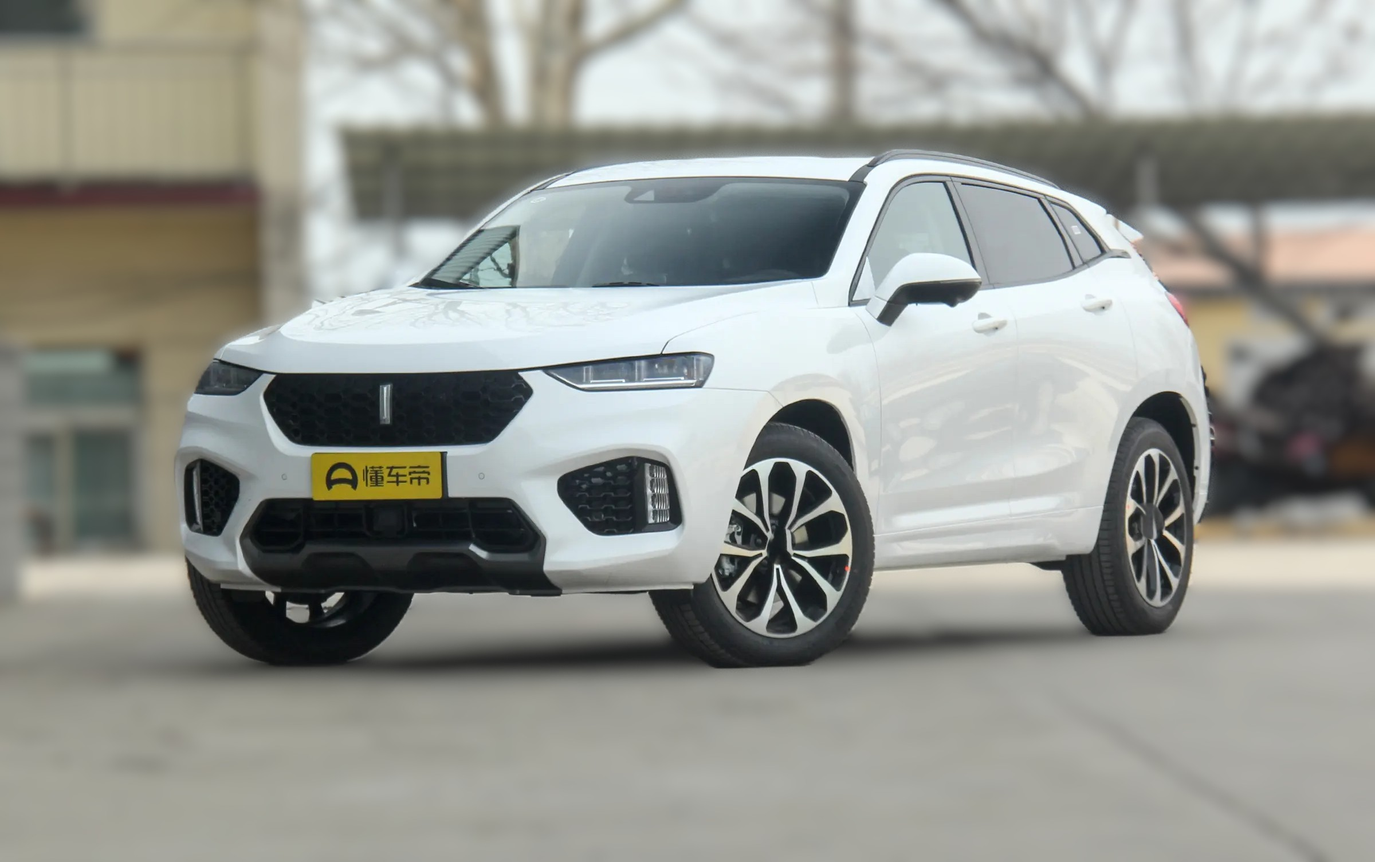WEY: (380, 385, 390, 424)
